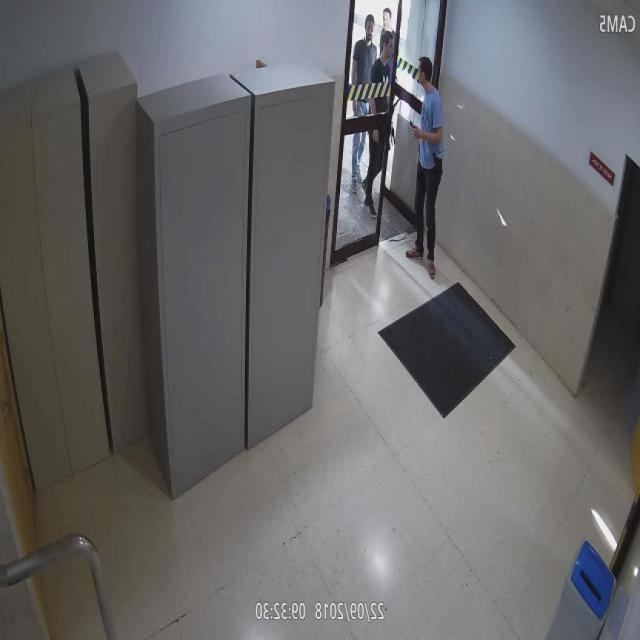pistol: (388, 123, 398, 149)
